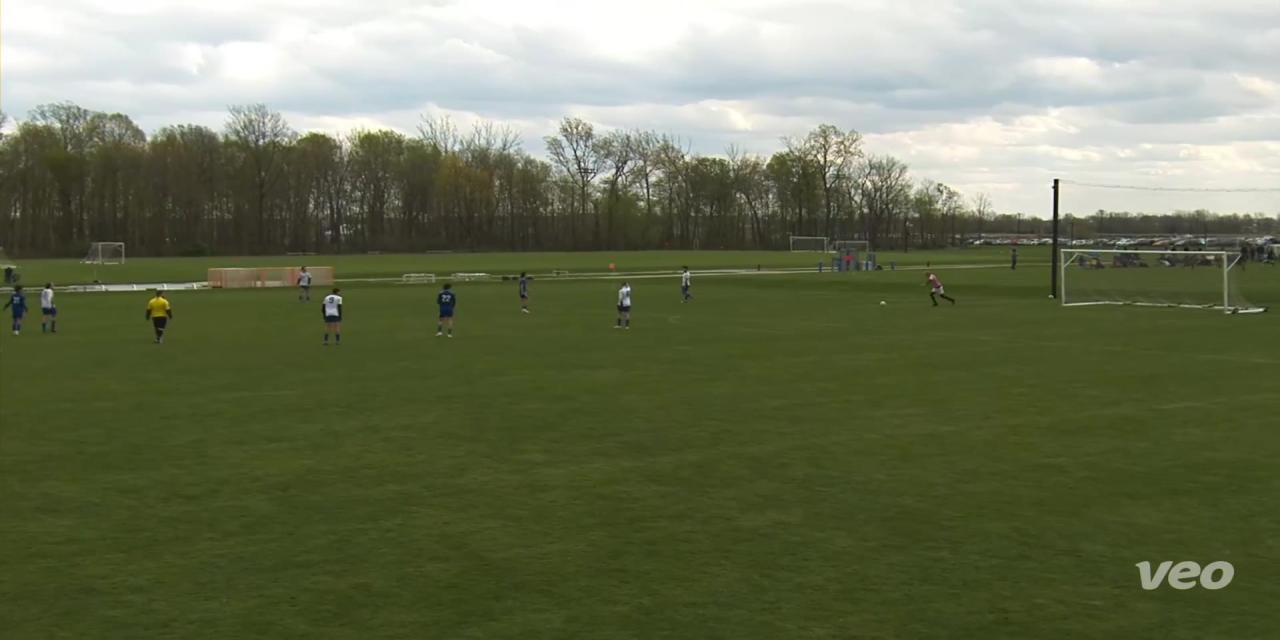goal: (1037, 230, 1275, 325)
sports ball: (879, 299, 887, 307)
